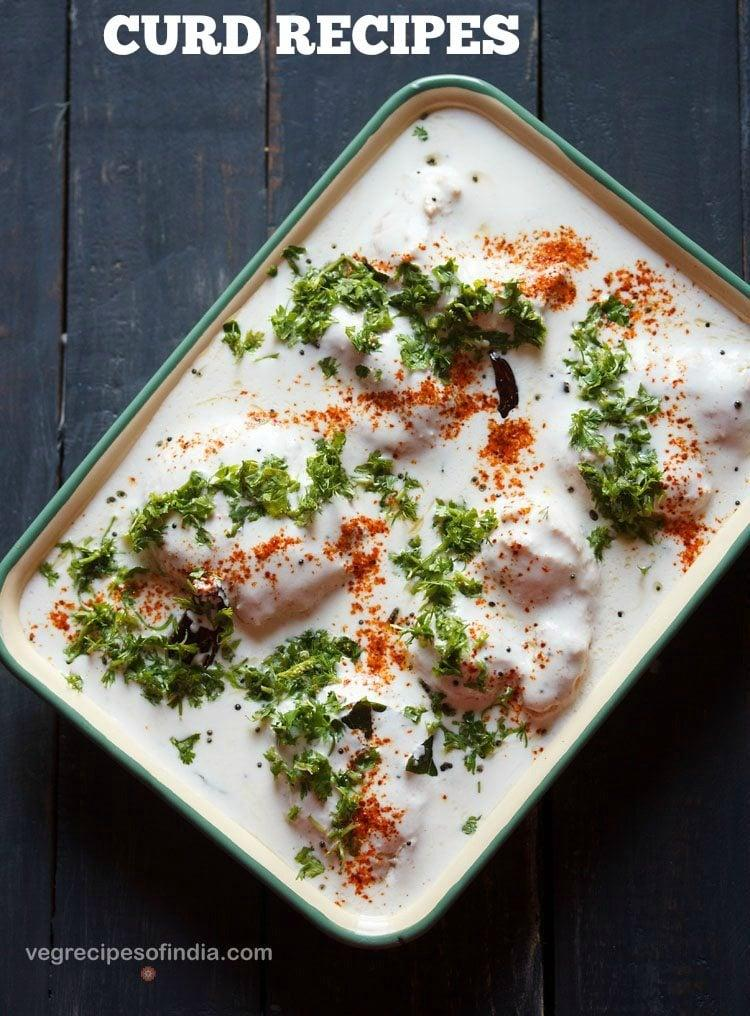yogurt: (182, 381, 534, 798)
